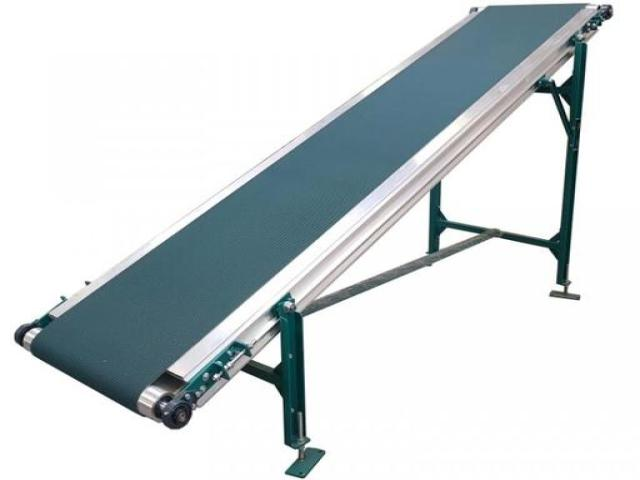conveyor: (10, 0, 616, 478)
